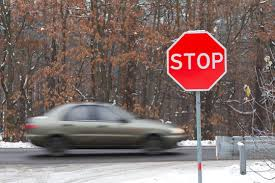stop sign: (166, 30, 228, 92)
